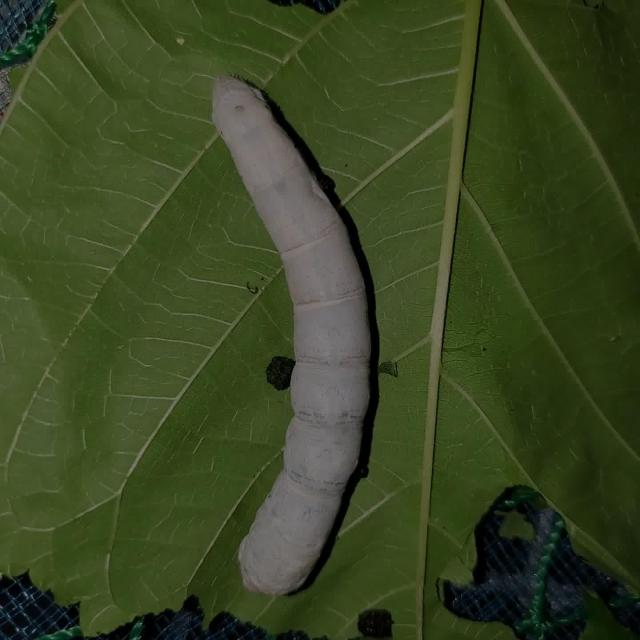Healthy: (199, 71, 401, 600)
